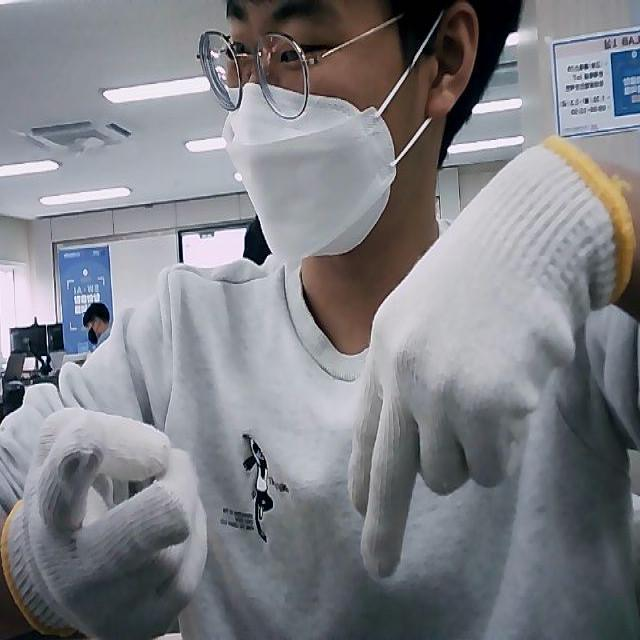gloves: (346, 135, 636, 580), (1, 408, 210, 640)
